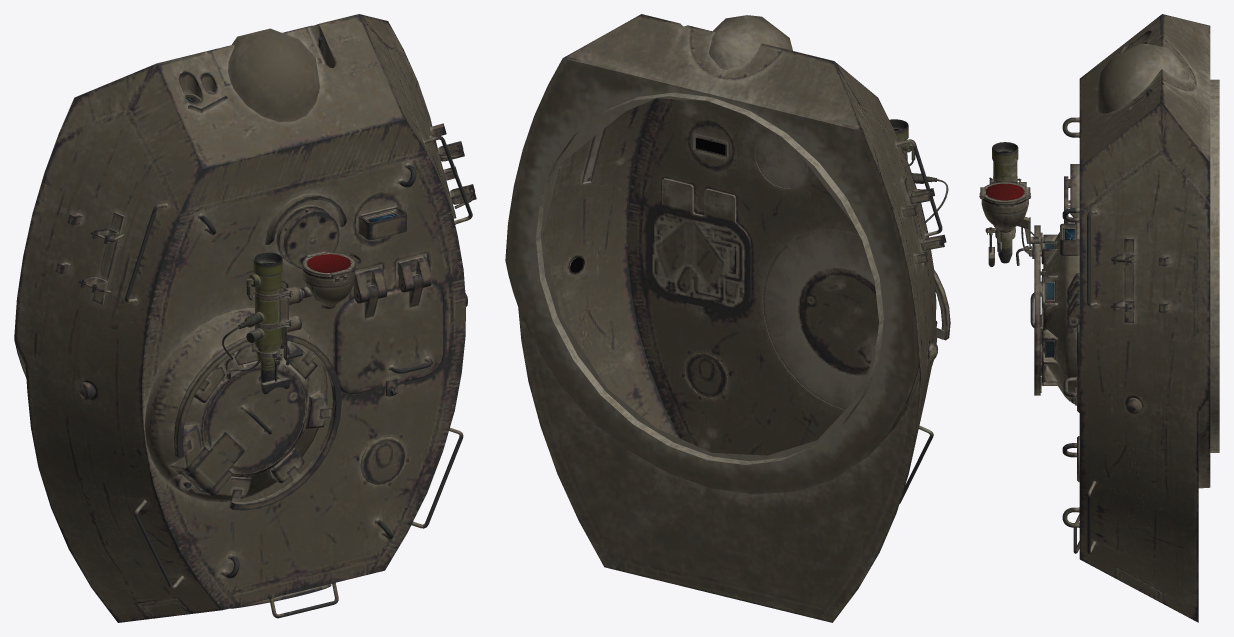
Rendered from Turret_01.glb.
3 renders of one model, left to right at view 1: azimuth 30°, elevation 25°; view 2: azimuth 150°, elevation 25°; view 3: azimuth 270°, elevation 25°, orthographic. The views are drawn at different scales.
Visible parts, largest first — view 1: set_0_group_0; view 2: set_0_group_0; view 3: set_0_group_0.
Part boxes in pixels (left/top/right/bottom): set_0_group_0: left=14, top=14, right=476, bottom=622; set_0_group_0: left=505, top=14, right=950, bottom=622; set_0_group_0: left=979, top=14, right=1219, bottom=622.
Bounding box in the file's own units: 2.43 × 3.14 × 1.3.
1 material, 1 textured.
